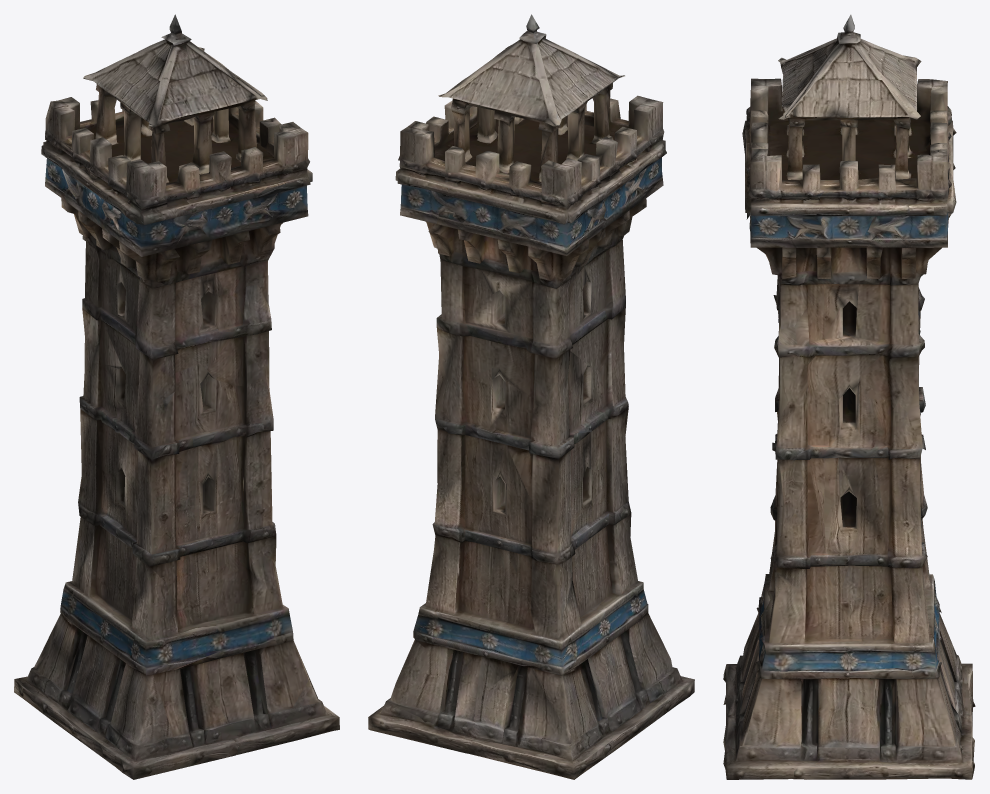
File: castle_tower_tall_wood.glb
The picture shows the model from 3 angles, left to right: view 1: azimuth 30°, elevation 25°; view 2: azimuth 150°, elevation 25°; view 3: azimuth 270°, elevation 25°; orthographic projection. The views are drawn at different scales.
Visible parts, largest first — view 1: tripo_node_cccab6b9-d162-4ed2-8b30-8674d5805c38; view 2: tripo_node_cccab6b9-d162-4ed2-8b30-8674d5805c38; view 3: tripo_node_cccab6b9-d162-4ed2-8b30-8674d5805c38.
Boxes of the visible parts, left/top/right/bottom form: tripo_node_cccab6b9-d162-4ed2-8b30-8674d5805c38: left=14, top=14, right=339, bottom=779; tripo_node_cccab6b9-d162-4ed2-8b30-8674d5805c38: left=368, top=14, right=694, bottom=779; tripo_node_cccab6b9-d162-4ed2-8b30-8674d5805c38: left=723, top=14, right=975, bottom=779.
Bounding box in the file's own units: 0.3111 × 0.9754 × 0.3121.
1 material, 1 textured.
